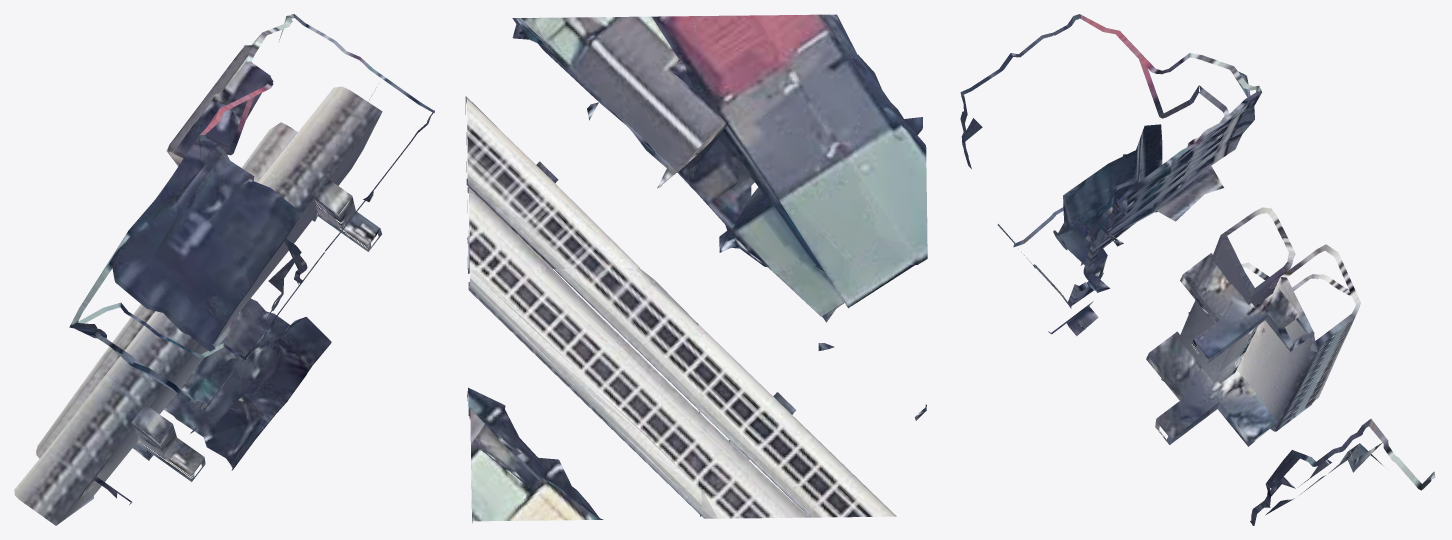
The picture shows the model from 3 angles, left to right: view 1: azimuth 30°, elevation 25°; view 2: azimuth 150°, elevation 25°; view 3: azimuth 270°, elevation 25°; orthographic projection. The views are drawn at different scales.
Bounding box in the file's own units: 37.39 × 41.36 × 37.96.
2 materials, 2 textured.
